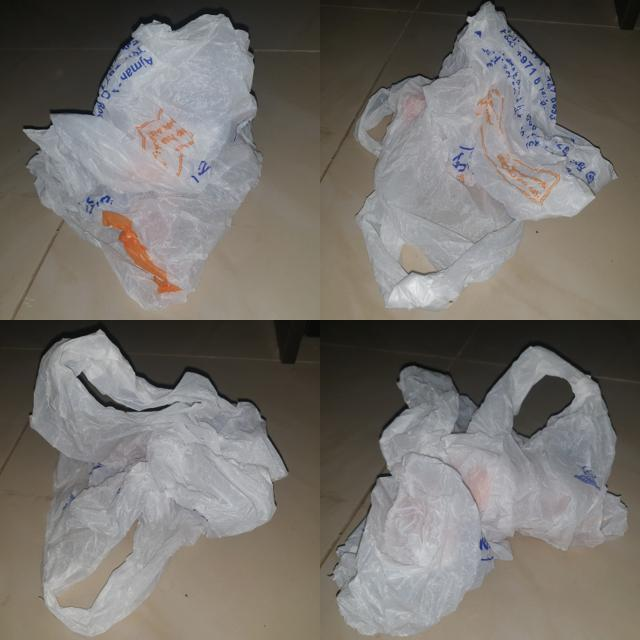Single-layer Plastic: (334, 346, 628, 636), (355, 2, 616, 309), (30, 331, 288, 636), (25, 15, 261, 309)
